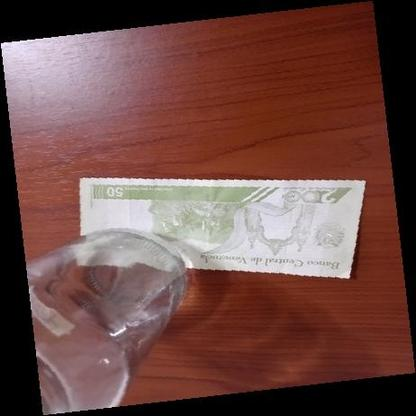fifty-back-vef: (77, 177, 365, 280)
